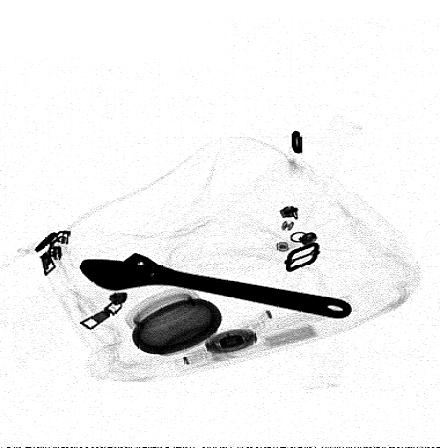Wrench: (79, 251, 352, 318)
